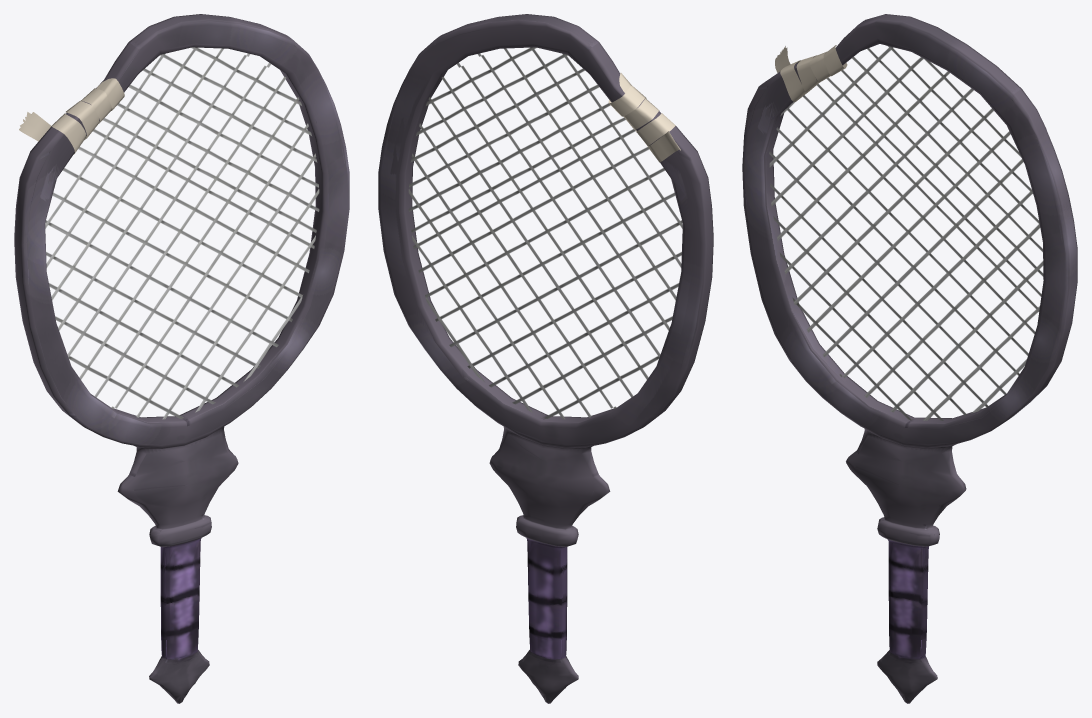
File: Raqueta del jugador.glb
3 renders of one model, left to right at view 1: azimuth 30°, elevation 25°; view 2: azimuth 150°, elevation 25°; view 3: azimuth 330°, elevation 25°, orthographic.
Visible parts, largest first — view 1: Cube.002, Circle; view 2: Cube.002, Circle; view 3: Cube.002, Circle.
Part boxes in pixels (x1=…): Cube.002: x1=14, y1=14, x2=349, y2=703; Circle: x1=45, y1=47, x2=319, y2=419; Cube.002: x1=378, y1=14, x2=713, y2=703; Circle: x1=408, y1=47, x2=682, y2=419; Cube.002: x1=742, y1=14, x2=1077, y2=703; Circle: x1=769, y1=46, x2=1043, y2=420.
Bounding box in the file's own units: 0.3481 × 0.6947 × 0.0421.
Materials: 4 (4 with a texture image).
